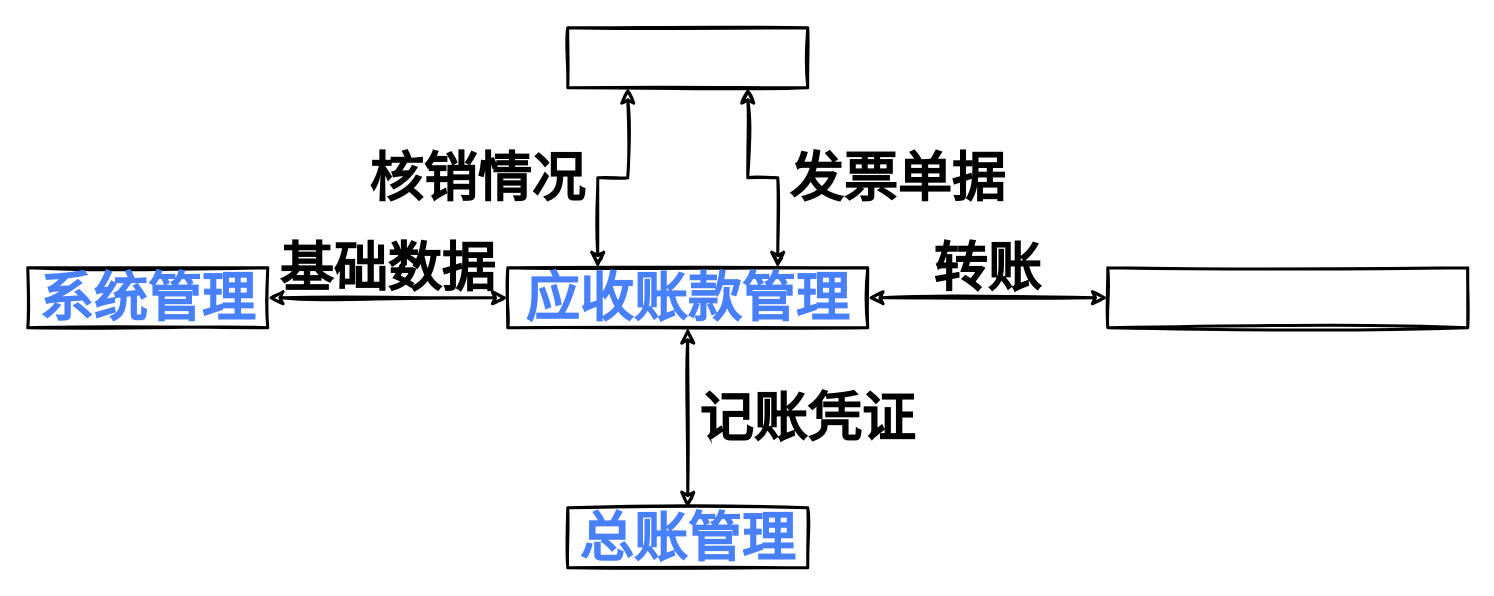
The diagram is 1494 pixels wide and 596 high, and some of its shapes have lost their labels. Here are the shapes that lost their labels. From the top down, the box of each, then its label:
(566, 26, 808, 88): 销售管理
(1106, 266, 1468, 328): 应付账款管理
